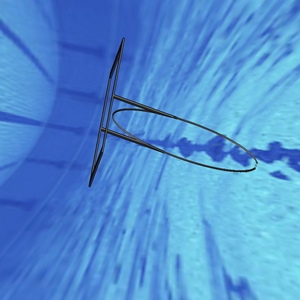circle: (82, 36, 259, 189)
